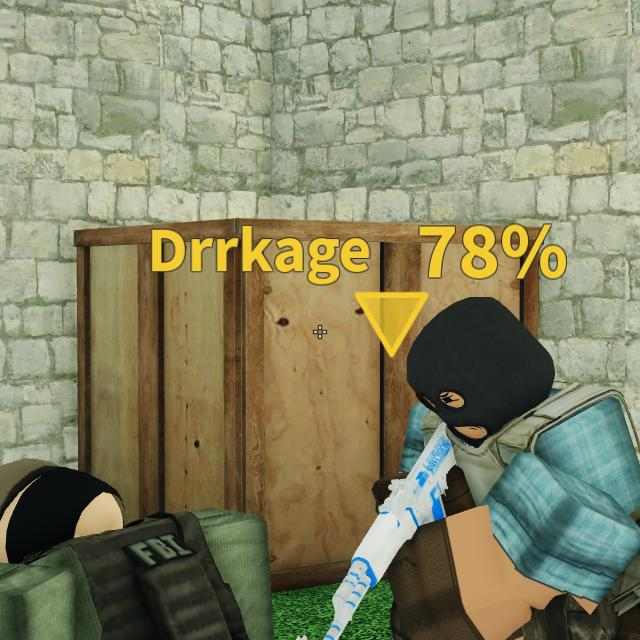Head: (408, 299, 555, 437)
Player: (376, 298, 640, 640)
